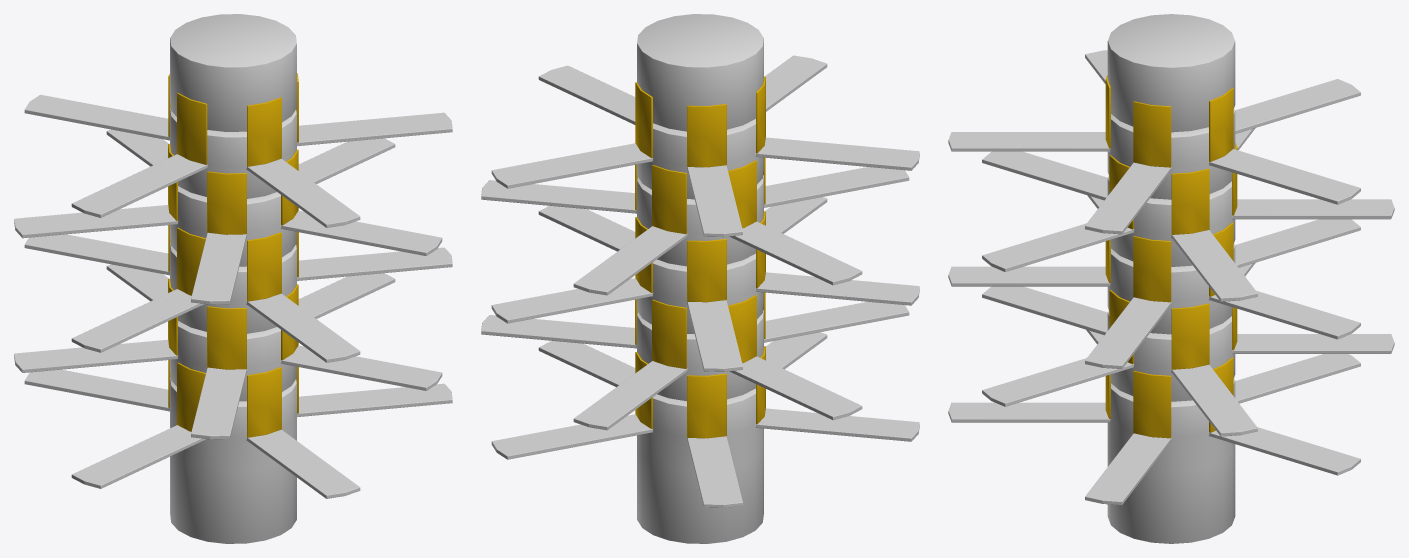
The model's file is HeavyCylinder.fbx.
3 renders of one model, left to right at view 1: azimuth 30°, elevation 25°; view 2: azimuth 150°, elevation 25°; view 3: azimuth 270°, elevation 25°, orthographic.
Parts seen in each view (by area): view 1: HeavyCylinder.002, HeavyCylinder.006, HeavyCylinder.005, HeavyCylinder.003, HeavyCylinder.004, HeavyCylinder.007, HeavyCylinder.017, HeavyCylinder.013, HeavyCylinder.015, HeavyCylinder.014, HeavyCylinder.016; view 2: HeavyCylinder.002, HeavyCylinder.006, HeavyCylinder.004, HeavyCylinder.003, HeavyCylinder.005, HeavyCylinder.007, HeavyCylinder.017, HeavyCylinder.016, HeavyCylinder.014, HeavyCylinder.013, HeavyCylinder.015; view 3: HeavyCylinder.002, HeavyCylinder.006, HeavyCylinder.005, HeavyCylinder.004, HeavyCylinder.003, HeavyCylinder.007, HeavyCylinder.017, HeavyCylinder.013, HeavyCylinder.016, HeavyCylinder.015, HeavyCylinder.014.
Boxes of the visible parts, box(x1,y1,x2,y2) form: HeavyCylinder.002: box(24, 369, 452, 543); HeavyCylinder.006: box(24, 94, 452, 227); HeavyCylinder.005: box(14, 129, 442, 304); HeavyCylinder.003: box(14, 264, 442, 439); HeavyCylinder.004: box(24, 234, 452, 362); HeavyCylinder.007: box(170, 14, 296, 131); HeavyCylinder.017: box(168, 73, 298, 166); HeavyCylinder.013: box(168, 360, 298, 437); HeavyCylinder.015: box(168, 225, 298, 301); HeavyCylinder.014: box(168, 278, 298, 369); HeavyCylinder.016: box(168, 144, 298, 234); HeavyCylinder.002: box(491, 332, 919, 543); HeavyCylinder.006: box(491, 55, 919, 237); HeavyCylinder.004: box(491, 197, 919, 371); HeavyCylinder.003: box(481, 301, 909, 430); HeavyCylinder.005: box(481, 167, 909, 295); HeavyCylinder.007: box(637, 14, 763, 131); HeavyCylinder.017: box(635, 76, 765, 167); HeavyCylinder.016: box(635, 157, 765, 234); HeavyCylinder.014: box(635, 292, 765, 368); HeavyCylinder.013: box(635, 346, 765, 438); HeavyCylinder.015: box(635, 211, 765, 302); HeavyCylinder.002: box(948, 329, 1360, 543); HeavyCylinder.006: box(948, 50, 1360, 234); HeavyCylinder.005: box(982, 128, 1394, 301); HeavyCylinder.004: box(948, 195, 1360, 368); HeavyCylinder.003: box(982, 262, 1394, 436); HeavyCylinder.007: box(1107, 14, 1235, 132); HeavyCylinder.017: box(1105, 75, 1233, 167); HeavyCylinder.013: box(1105, 357, 1233, 438); HeavyCylinder.016: box(1109, 142, 1237, 234); HeavyCylinder.015: box(1105, 222, 1233, 302); HeavyCylinder.014: box(1109, 290, 1237, 369).
Size of the model in its own units: 5403 by 6600 by 5600.
